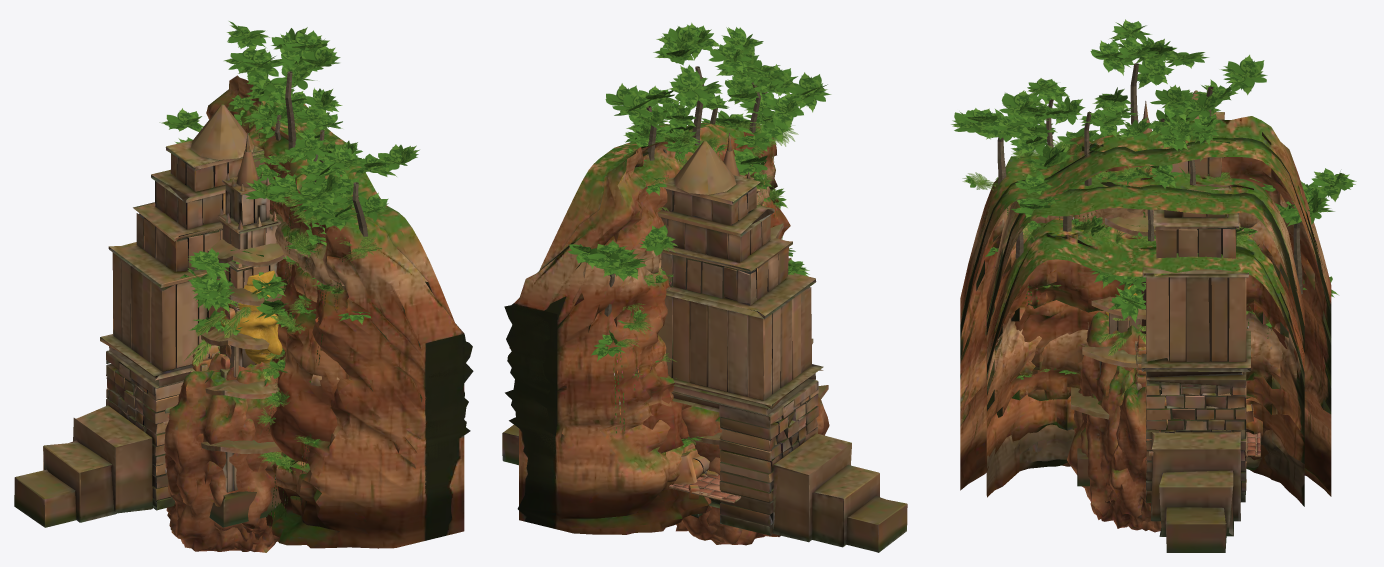
Rendered from kit.mobile.glb.
3 views of the same model, side by side, from view 1: azimuth 30°, elevation 25°; view 2: azimuth 150°, elevation 25°; view 3: azimuth 270°, elevation 25° (orthographic). The views are drawn at different scales.
Parts seen in each view (by area): view 1: cliff_wall_2, face_gate_0, cliff_wall_2_veg, rock_big_0, cliff_wall_1, temple_1, cliff_wall_1_veg, rock_big_2, temple_0, cliff_wall_0_veg, tree_big_1_crown, face_gate_0_gold (+4 smaller); view 2: cliff_wall_2, face_gate_0, cliff_wall_2_veg, cliff_wall_1_veg, cliff_wall_0_veg, cliff_wall_1, rock_big_1, cliff_wall_2_trees, rock_big_0, rock_big_2, floor_wide_0, column_fallen_0 (+1 smaller); view 3: face_gate_0, cliff_wall_0, cliff_wall_2, cliff_wall_1, cliff_wall_2_veg, rock_big_1, cliff_wall_0_veg, cliff_wall_1_veg, rock_big_2, temple_1, rock_big_0, cliff_wall_2_trees (+2 smaller).
Boxes of the visible parts, bbox=[...] form: cliff_wall_2: bbox=[206, 75, 473, 548]; face_gate_0: bbox=[14, 104, 264, 527]; cliff_wall_2_veg: bbox=[159, 21, 419, 527]; rock_big_0: bbox=[164, 361, 278, 552]; cliff_wall_1: bbox=[269, 196, 348, 515]; temple_1: bbox=[201, 239, 285, 527]; cliff_wall_1_veg: bbox=[228, 84, 342, 431]; rock_big_2: bbox=[175, 353, 276, 551]; temple_0: bbox=[217, 133, 280, 319]; cliff_wall_0_veg: bbox=[245, 164, 388, 473]; tree_big_1_crown: bbox=[180, 248, 288, 318]; face_gate_0_gold: bbox=[221, 270, 282, 363]; cliff_wall_2: bbox=[504, 123, 790, 534]; face_gate_0: bbox=[502, 140, 907, 552]; cliff_wall_2_veg: bbox=[567, 22, 831, 433]; cliff_wall_1_veg: bbox=[624, 64, 773, 252]; cliff_wall_0_veg: bbox=[623, 92, 791, 447]; cliff_wall_1: bbox=[642, 165, 769, 452]; rock_big_1: bbox=[676, 406, 780, 545]; cliff_wall_2_trees: bbox=[604, 66, 767, 316]; rock_big_0: bbox=[682, 397, 829, 536]; rock_big_2: bbox=[695, 412, 742, 544]; floor_wide_0: bbox=[669, 471, 741, 503]; column_fallen_0: bbox=[674, 452, 709, 484]; face_gate_0: bbox=[1141, 90, 1250, 552]; cliff_wall_0: bbox=[987, 218, 1304, 506]; cliff_wall_2: bbox=[960, 116, 1331, 496]; cliff_wall_1: bbox=[986, 167, 1304, 495]; cliff_wall_2_veg: bbox=[951, 19, 1356, 297]; rock_big_1: bbox=[1074, 311, 1161, 530]; cliff_wall_0_veg: bbox=[985, 123, 1272, 400]; cliff_wall_1_veg: bbox=[1052, 86, 1230, 224]; rock_big_2: bbox=[1067, 365, 1175, 530]; temple_1: bbox=[1071, 216, 1155, 486]; rock_big_0: bbox=[1073, 316, 1159, 532]; cliff_wall_2_trees: bbox=[997, 63, 1302, 294].
Bounding box in the file's own units: 31.22 × 38.53 × 30.14.
Materials: 12 (12 with a texture image).
